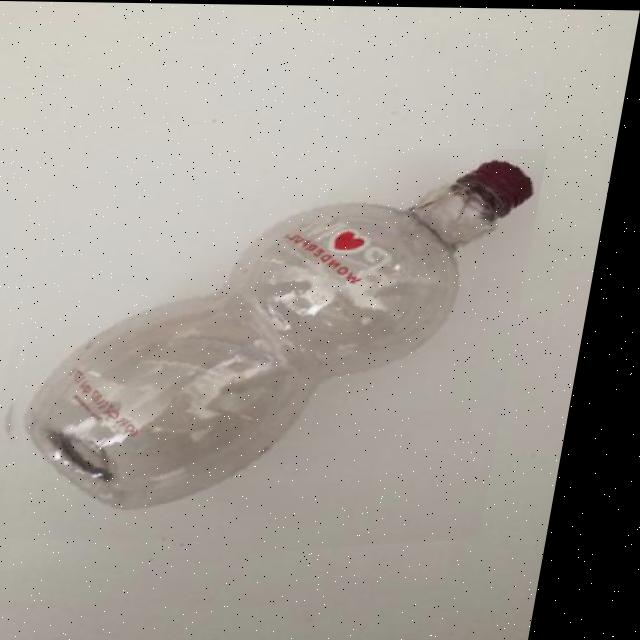plasticbottle: (0, 141, 553, 575)
plasticbottlecap: (428, 166, 534, 248)
